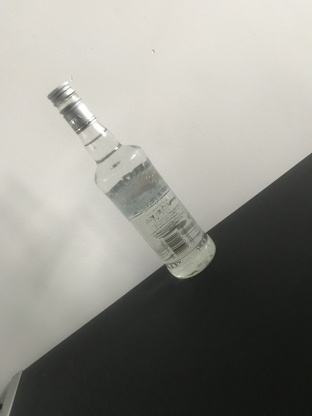nakretka: (45, 77, 96, 135)
